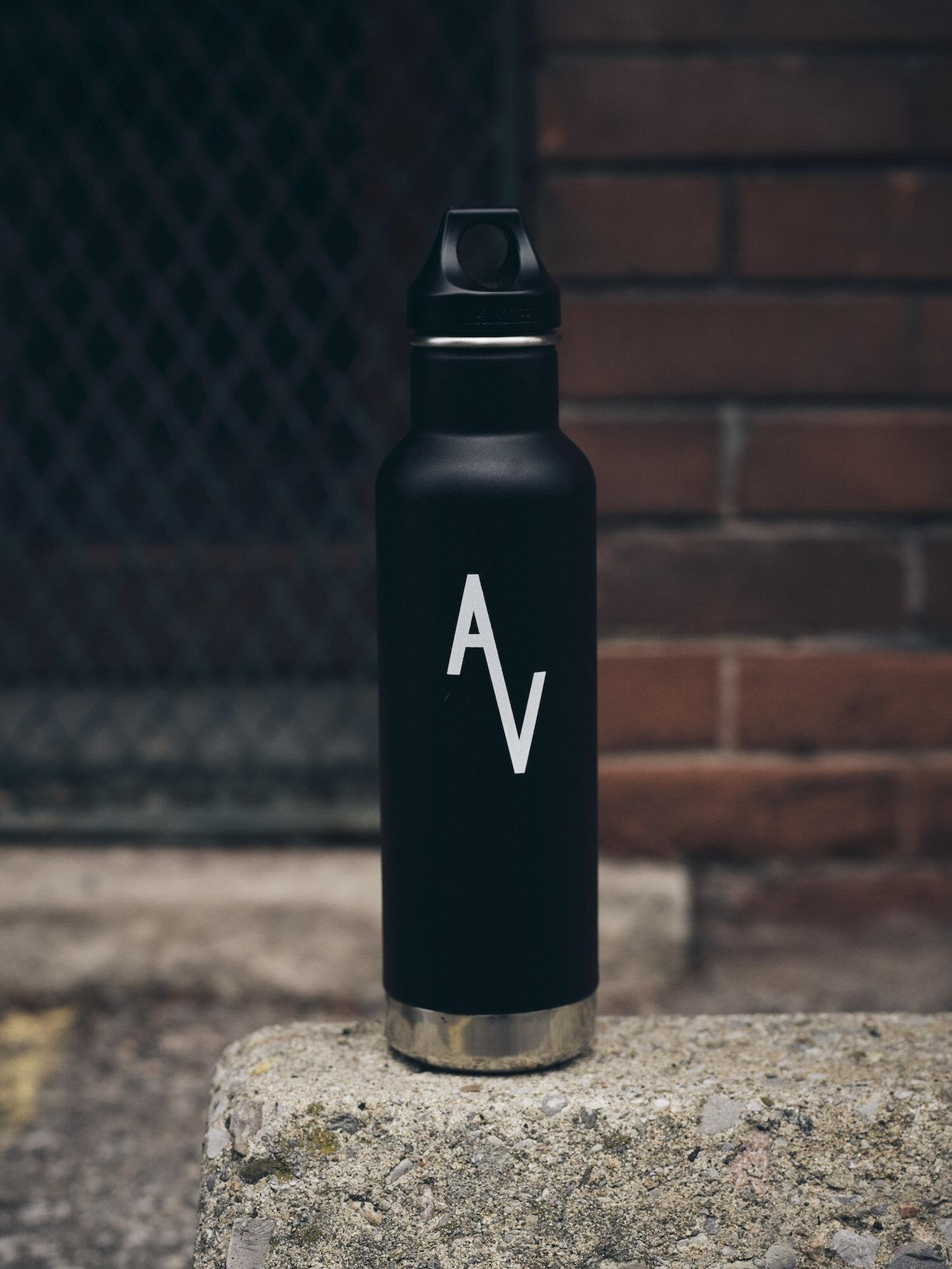gym bottle: (368, 204, 607, 1079)
